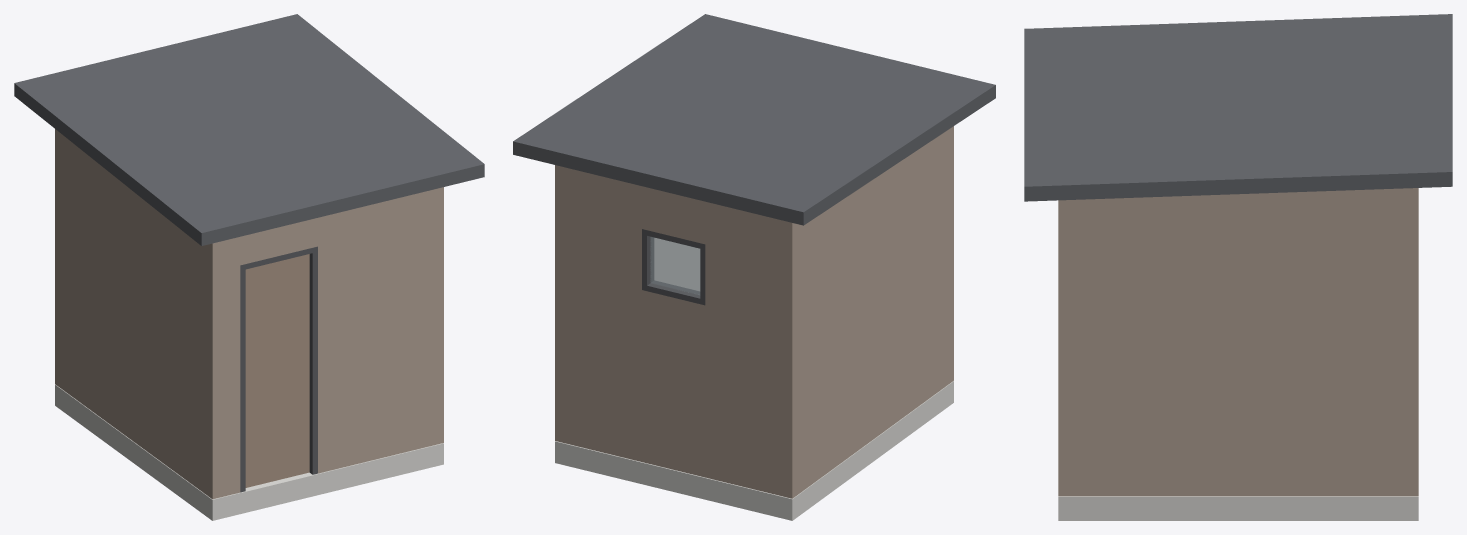
File: pod-bano.glb
3 views of the same model, side by side, from view 1: azimuth 30°, elevation 25°; view 2: azimuth 150°, elevation 25°; view 3: azimuth 270°, elevation 25° (orthographic). The views are drawn at different scales.
Parts seen in each view (by area): view 1: Losa de techo · Chapa techo, Muro S · Revestimiento madera, Muro O · Revestimiento madera, Puerta S1 · Puerta madera, Platea · Hormigón, Puerta S1 · Aluminio negro, Muro N · Revestimiento madera; view 2: Muro N · Revestimiento madera, Losa de techo · Chapa techo, Muro O · Revestimiento madera, Platea · Hormigón, Ventana N1 · Vidrio, Muro S · Revestimiento madera, Ventana N1 · Aluminio negro, Muro E · Interior blanco; view 3: Muro E · Revestimiento madera, Losa de techo · Chapa techo, Platea · Hormigón, Muro N · Revestimiento madera, Muro S · Revestimiento madera.
Part boxes in pixels (x1,y1,x2,y2): Losa de techo · Chapa techo: (14, 14, 484, 245); Muro S · Revestimiento madera: (205, 187, 443, 499); Muro O · Revestimiento madera: (62, 134, 205, 493); Puerta S1 · Puerta madera: (245, 254, 309, 487); Platea · Hormigón: (55, 384, 443, 520); Puerta S1 · Aluminio negro: (240, 246, 317, 492); Muro N · Revestimiento madera: (55, 129, 61, 388); Muro N · Revestimiento madera: (555, 165, 799, 498); Losa de techo · Chapa techo: (513, 14, 995, 225); Muro O · Revestimiento madera: (799, 131, 946, 492); Platea · Hormigón: (555, 381, 953, 520); Ventana N1 · Vidrio: (650, 237, 700, 294); Muro S · Revestimiento madera: (946, 126, 953, 385); Ventana N1 · Aluminio negro: (642, 229, 705, 305); Muro E · Interior blanco: (654, 238, 699, 290); Muro E · Revestimiento madera: (1074, 188, 1402, 496); Losa de techo · Chapa techo: (1024, 14, 1452, 201); Platea · Hormigón: (1058, 496, 1418, 520); Muro N · Revestimiento madera: (1402, 188, 1418, 496); Muro S · Revestimiento madera: (1058, 200, 1074, 496).
Bounding box in the file's own units: 2.74 × 2.94 × 3.14.
